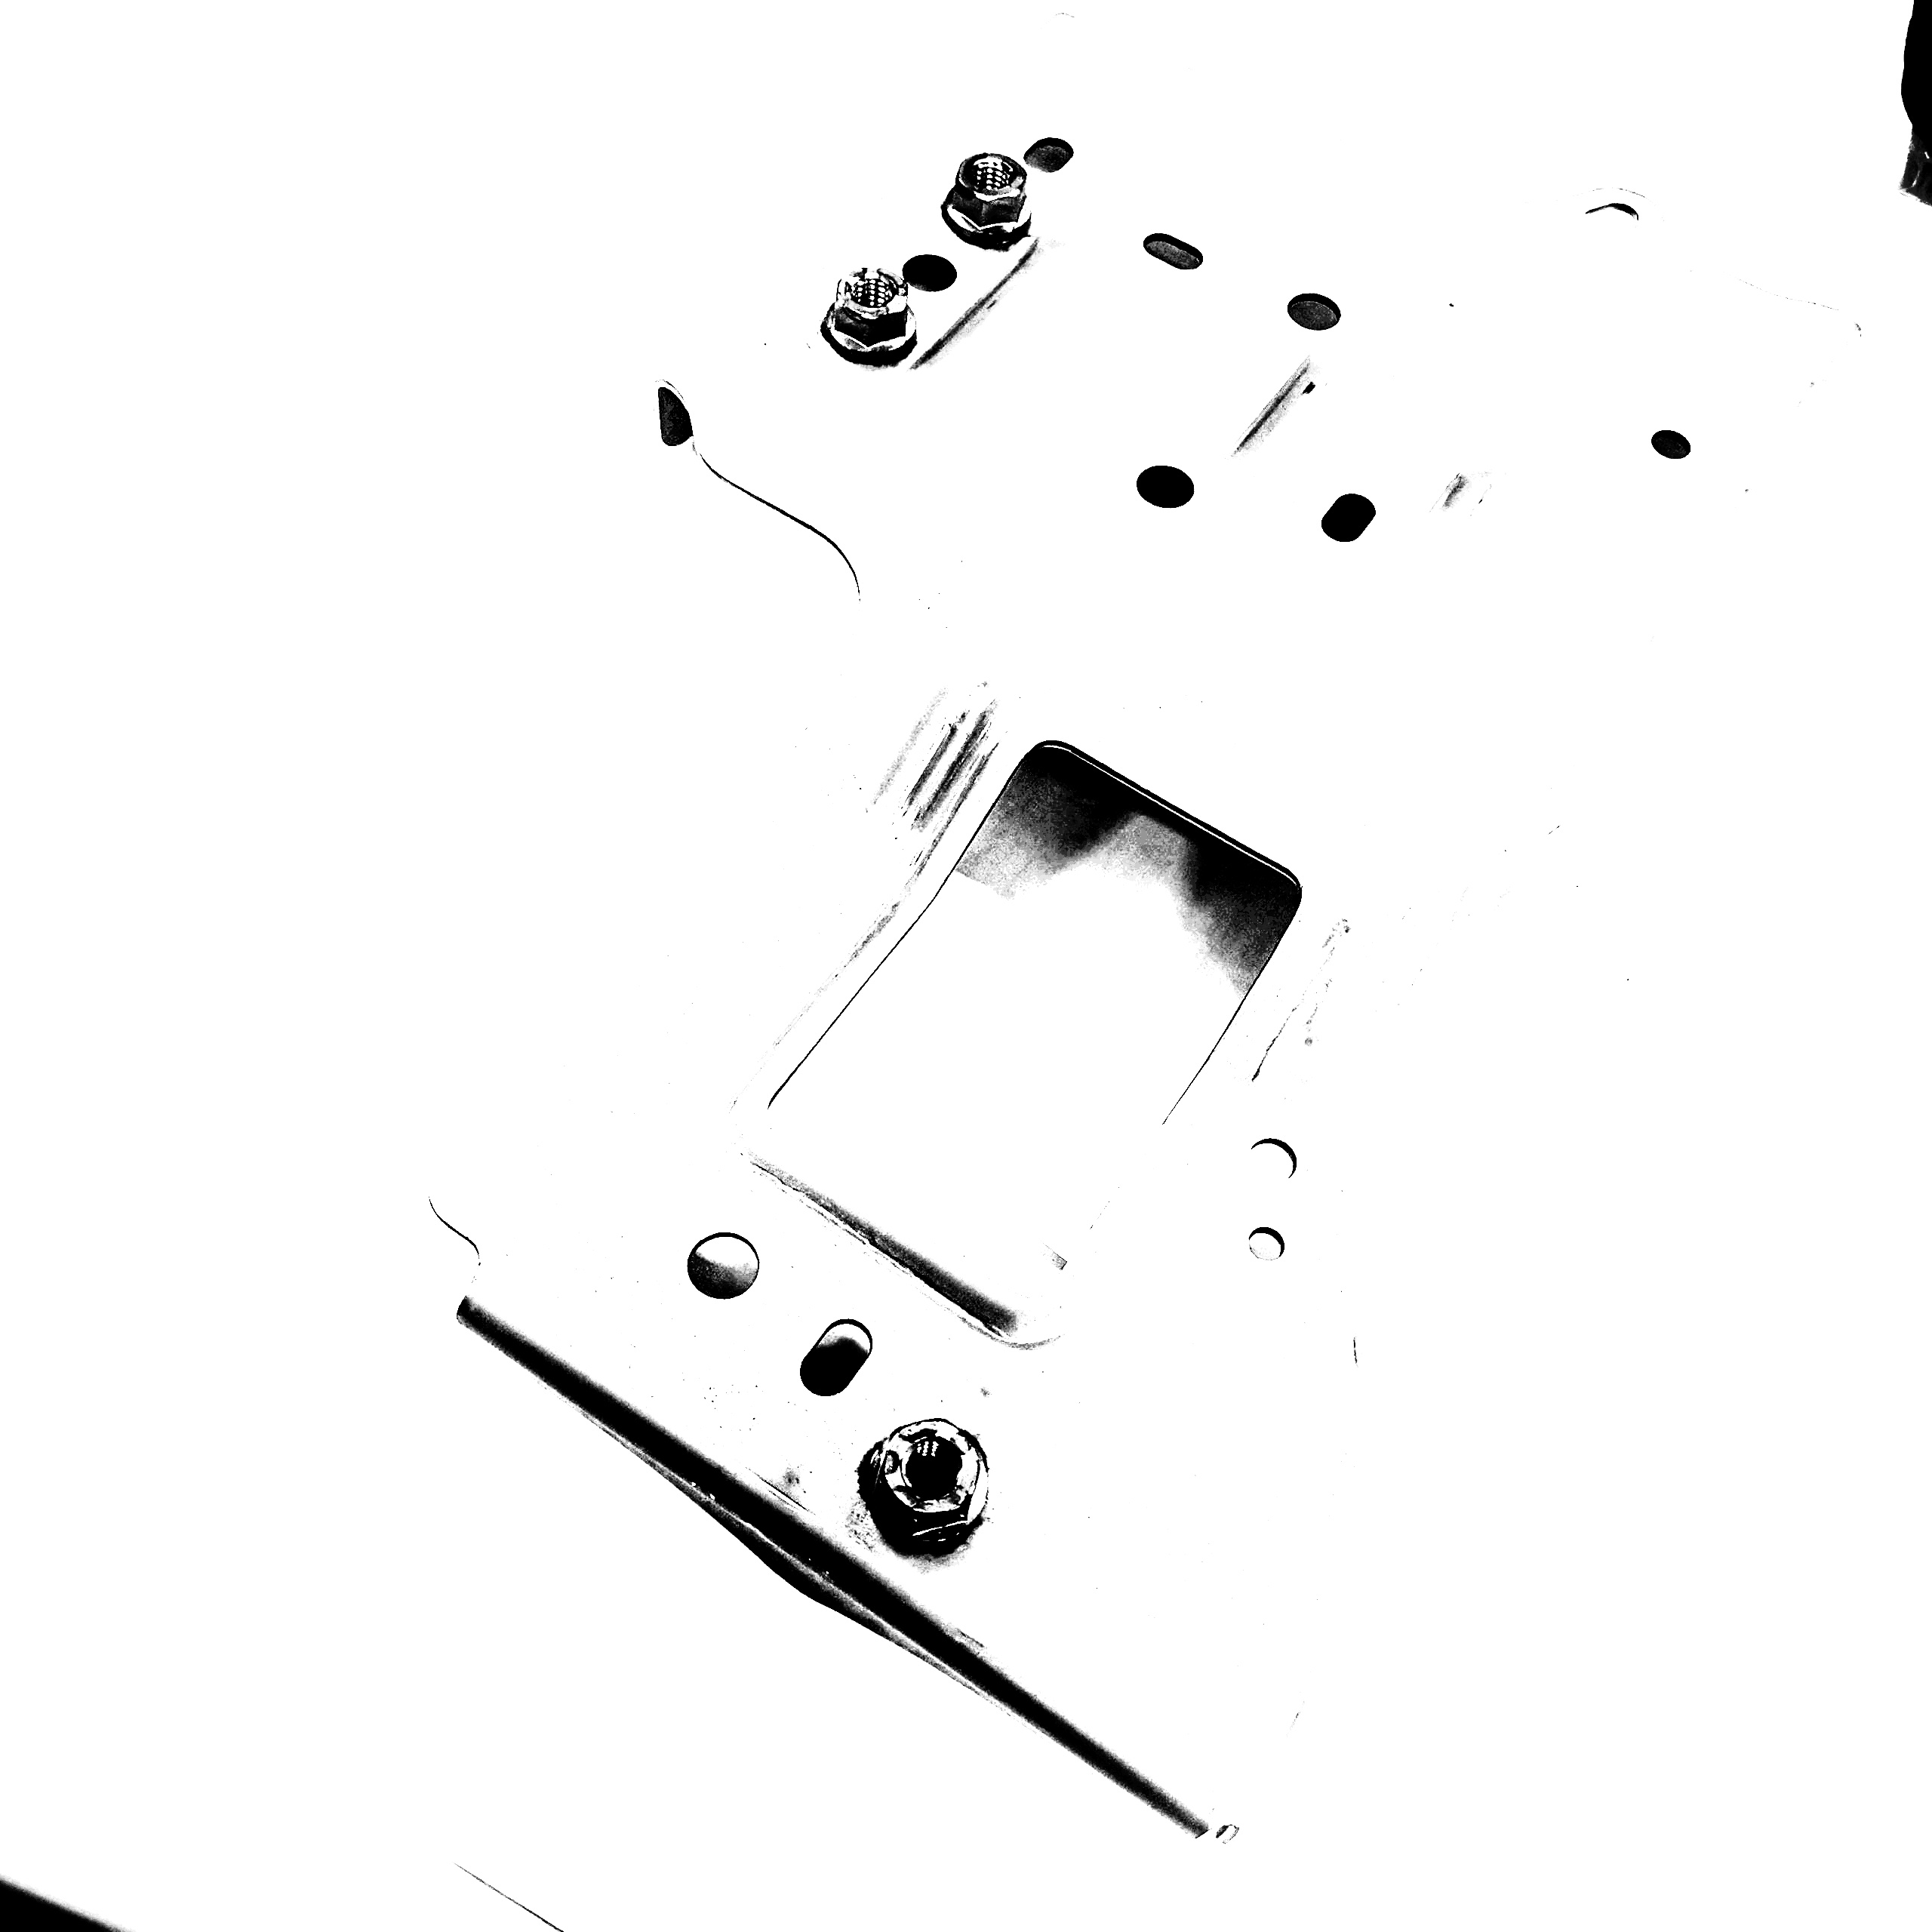dog: (855, 1410, 1000, 1560), (809, 260, 924, 372), (931, 145, 1042, 251)
